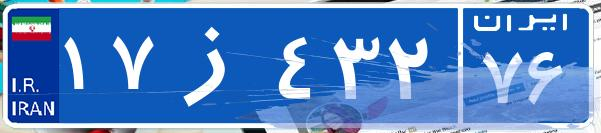1: (57, 26, 110, 107)
2: (385, 28, 445, 110)
3: (330, 28, 385, 110)
4: (273, 28, 330, 110)
6: (525, 38, 570, 115)
7: (475, 38, 525, 113), (110, 28, 158, 105)
ز: (158, 15, 273, 115)
